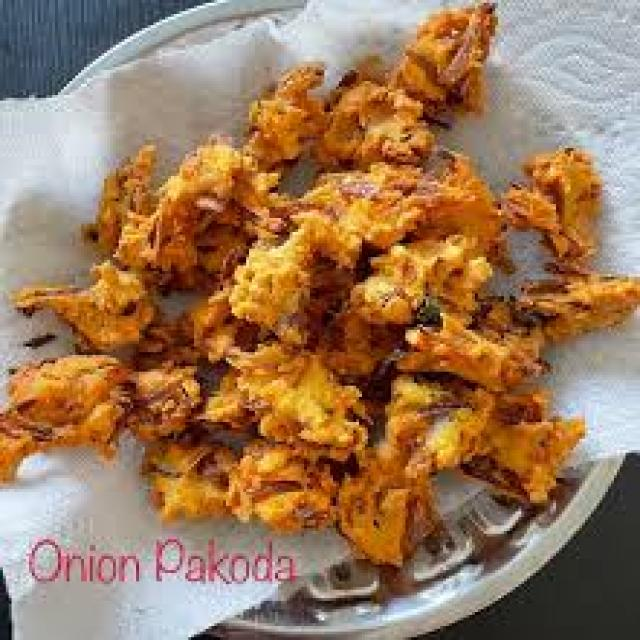BAJI: (0, 6, 637, 567)
